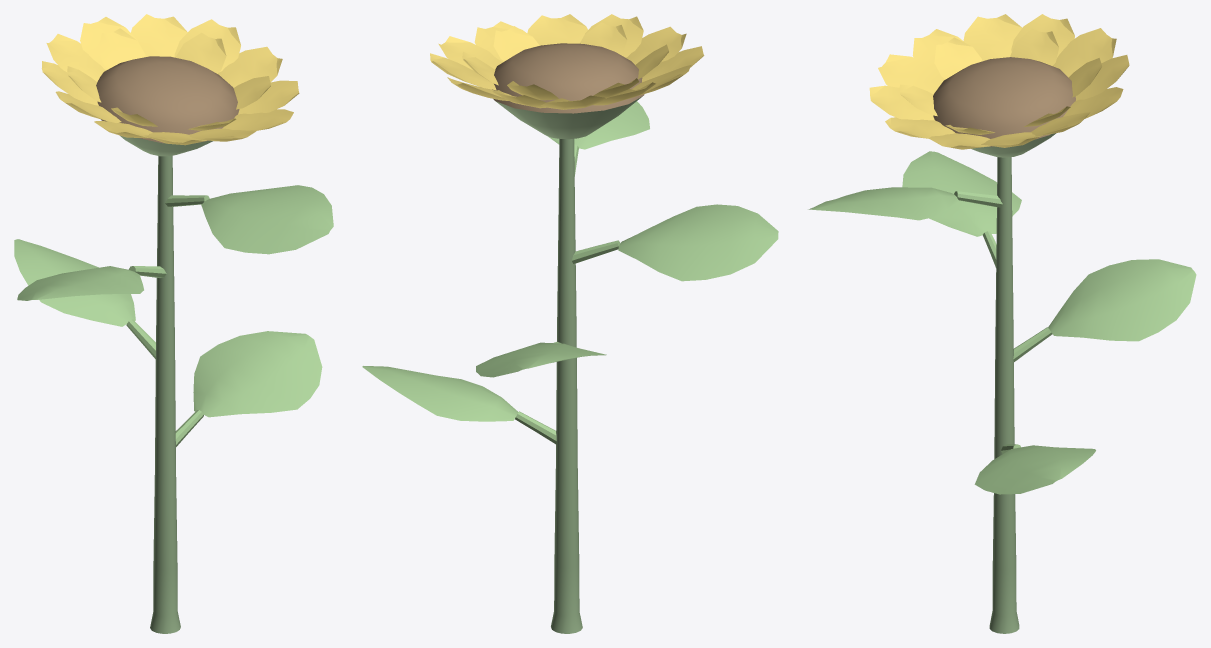
File: sunflower.glb
3 views of the same model, side by side, from view 1: azimuth 30°, elevation 25°; view 2: azimuth 150°, elevation 25°; view 3: azimuth 270°, elevation 25° (orthographic). The views are drawn at different scales.
Visible parts, largest first — view 1: foliage, flower, stem, fruit; view 2: foliage, flower, stem, fruit; view 3: foliage, flower, fruit, stem.
Boxes of the visible parts, box(x1,y1,x2,y2) form: foliage: box(14, 185, 333, 446); flower: box(41, 14, 299, 145); stem: box(150, 155, 180, 633); fruit: box(96, 56, 239, 156); foliage: box(362, 101, 778, 444); flower: box(430, 14, 704, 109); stem: box(551, 139, 582, 633); fruit: box(492, 43, 644, 139); foliage: box(808, 151, 1196, 494); flower: box(869, 14, 1129, 149); fruit: box(933, 57, 1075, 157); stem: box(989, 157, 1019, 633).
Size of the model in its own units: 0.6084 by 0.9576 by 0.5977.
